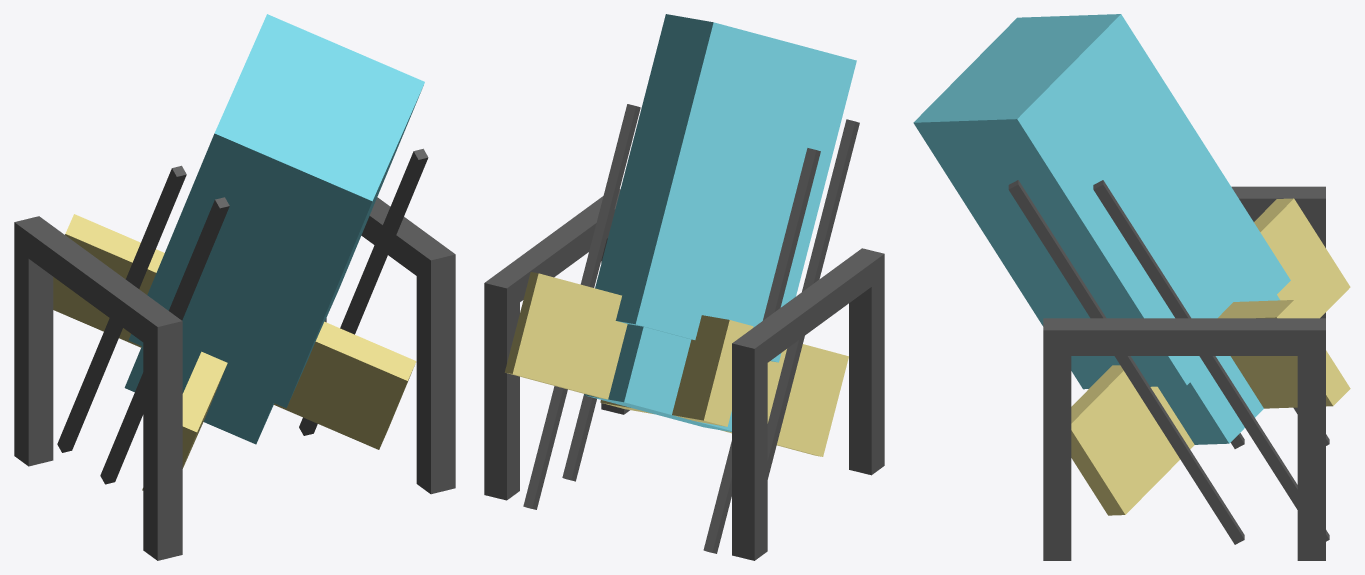
The model's file is BottleRocket.fbx.
The picture shows the model from 3 angles, left to right: view 1: azimuth 30°, elevation 25°; view 2: azimuth 150°, elevation 25°; view 3: azimuth 270°, elevation 25°; orthographic projection. The views are drawn at different scales.
Parts seen in each view (by area): view 1: Cube.001, Cube.009, Cube.016, Cube.006, Cube.010, Cube.005, Cube.011, Cube.013, Cube.002, Cube.003; view 2: Cube.001, Cube.009, Cube.016, Cube.004, Cube.002, Cube.003, Cube.005, Cube.012, Cube.011, Cube.010, Cube.013; view 3: Cube.001, Cube.016, Cube.006, Cube.005, Cube.013, Cube.004, Cube.012, Cube.002, Cube.009.
Boxes of the visible parts, x1,y1,x2,y2 form: Cube.001: (128,14,424,408); Cube.009: (14,216,182,560); Cube.016: (325,197,455,494); Cube.006: (274,321,416,449); Cube.010: (57,165,186,452); Cube.005: (53,214,164,347); Cube.011: (100,197,229,484); Cube.013: (299,148,428,435); Cube.002: (124,346,274,444); Cube.003: (142,351,227,490); Cube.001: (595,14,856,362); Cube.009: (732,248,884,560); Cube.016: (484,189,629,500); Cube.004: (504,272,627,399); Cube.002: (584,324,731,431); Cube.003: (721,344,848,456); Cube.005: (672,315,753,426); Cube.012: (523,104,640,509); Cube.011: (767,119,859,479); Cube.010: (703,148,820,553); Cube.013: (562,394,596,481); Cube.001: (913,14,1290,389); Cube.016: (1043,318,1325,560); Cube.006: (1071,365,1194,515); Cube.005: (1254,198,1350,318); Cube.013: (1008,180,1244,544); Cube.004: (1218,300,1350,408); Cube.012: (1093,180,1329,541); Cube.002: (1158,295,1279,444); Cube.009: (1231,186,1325,318).
Size of the model in its own units: 120 by 188 by 155.
